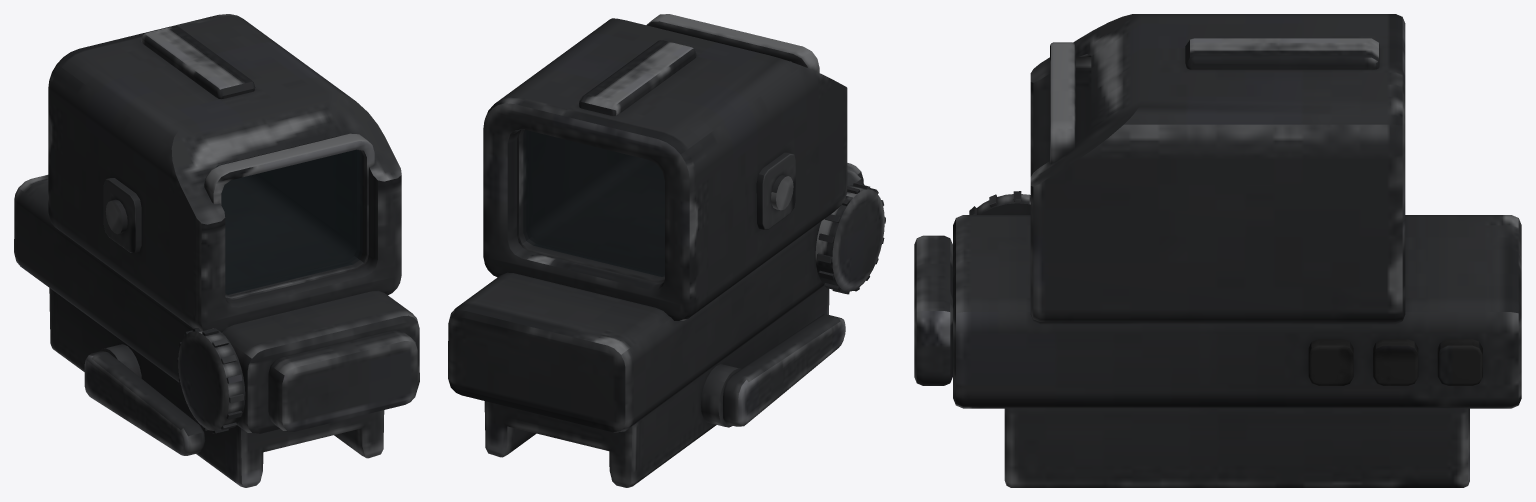
Rendered from scope_holo.glb.
3 views of the same model, side by side, from view 1: azimuth 30°, elevation 25°; view 2: azimuth 150°, elevation 25°; view 3: azimuth 270°, elevation 25° (orthographic). The views are drawn at different scales.
Visible parts, largest first — view 1: body, lens_front; view 2: body, lens; view 3: body.
Boxes of the visible parts, <box> form: body: <box>14,14,419,487</box>; lens_front: <box>221,149,362,294</box>; body: <box>448,14,885,487</box>; lens: <box>523,130,664,276</box>; body: <box>914,14,1521,487</box>.
Bounding box in the file's own units: 0.0464 × 0.0685 × 0.094.
2 materials, 1 textured.
